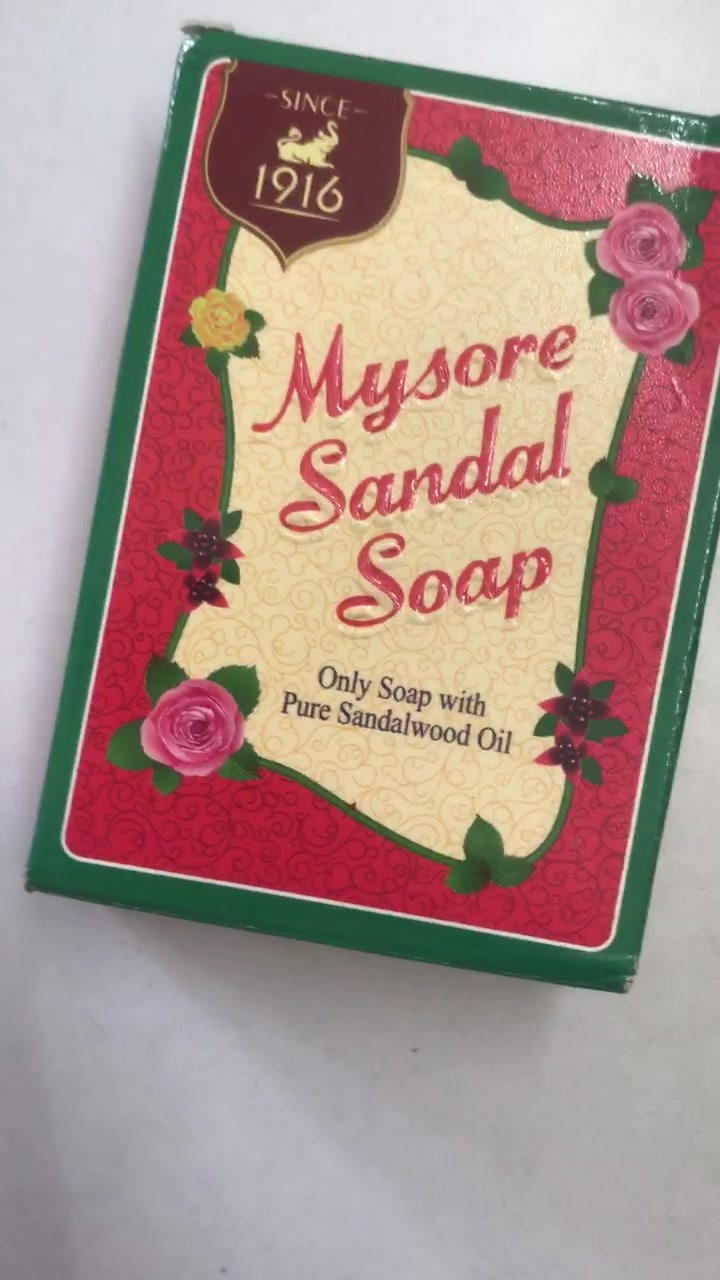mysore sandal soap: (42, 24, 720, 989)
